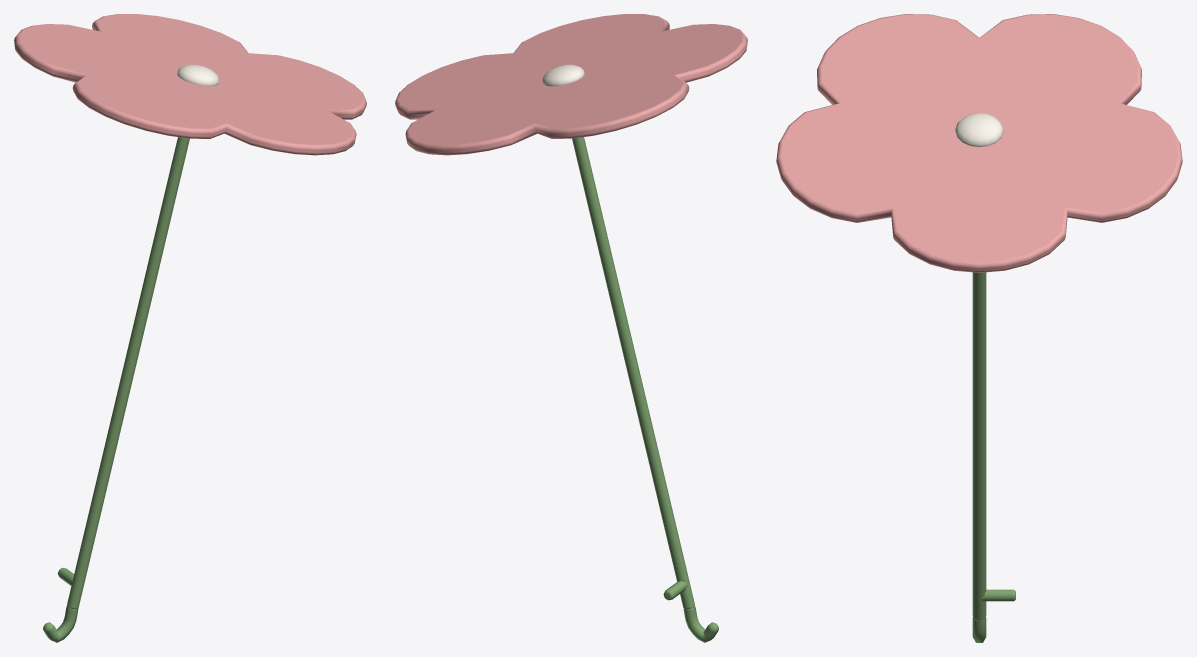
Rendered from cherry_blossom_umbrella.glb.
3 views of the same model, side by side, from view 1: azimuth 30°, elevation 25°; view 2: azimuth 150°, elevation 25°; view 3: azimuth 270°, elevation 25° (orthographic). The views are drawn at different scales.
Visible parts, largest first — view 1: cherry_blossom_umbrella_ArmR; view 2: cherry_blossom_umbrella_ArmR; view 3: cherry_blossom_umbrella_ArmR.
Part boxes in pixels (x1=…): cherry_blossom_umbrella_ArmR: x1=14, y1=14, x2=366, y2=642; cherry_blossom_umbrella_ArmR: x1=395, y1=14, x2=747, y2=642; cherry_blossom_umbrella_ArmR: x1=776, y1=14, x2=1182, y2=642.
Size of the model in its own units: 0.8149 by 1.42 by 0.8329.
